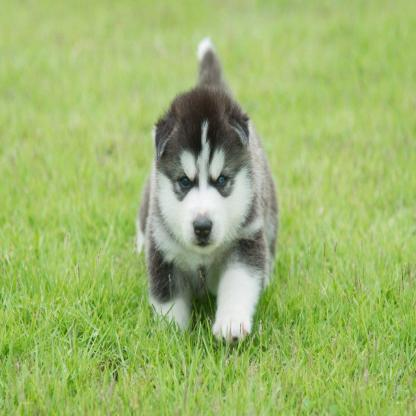dog: (137, 37, 278, 340)
